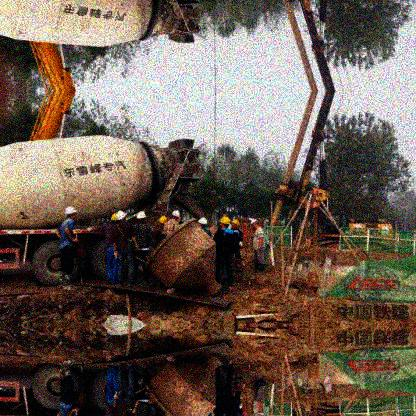helmet: (133, 210, 147, 225), (65, 206, 78, 222), (172, 212, 182, 225), (199, 213, 209, 226), (249, 216, 258, 229), (159, 215, 168, 228), (219, 215, 229, 225), (233, 217, 240, 228)
